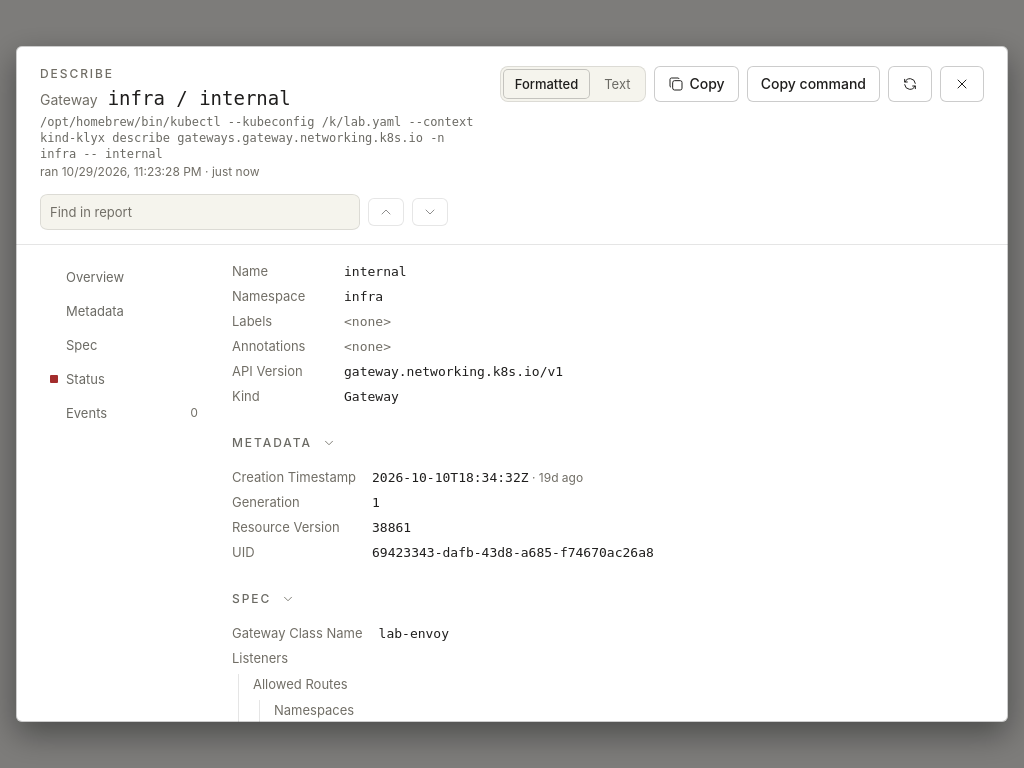
DescribePane › keeps the last report, labelled, when a refresh fails without output
Expected: the element with test id "describe-formatted" is shown, x1=232 y1=261 x2=984 y2=722
Step 1. Click the button named "Refresh" → (910, 84), box x1=888 y1=66 x2=932 y2=102
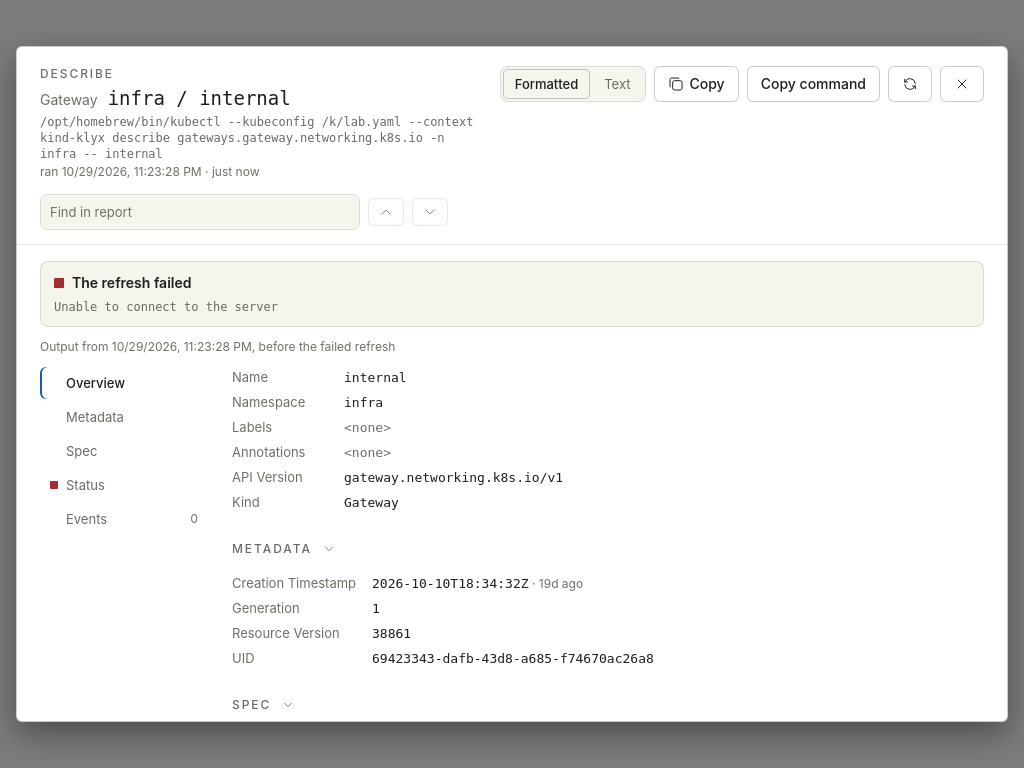
Expected: the element with test id "describe-formatted" is shown, x1=232 y1=369 x2=654 y2=719
Now the message shows "The refresh failed", box x1=72 y1=274 x2=192 y2=291
Now the message shows "Unable to connect", box x1=54 y1=300 x2=278 y2=314
